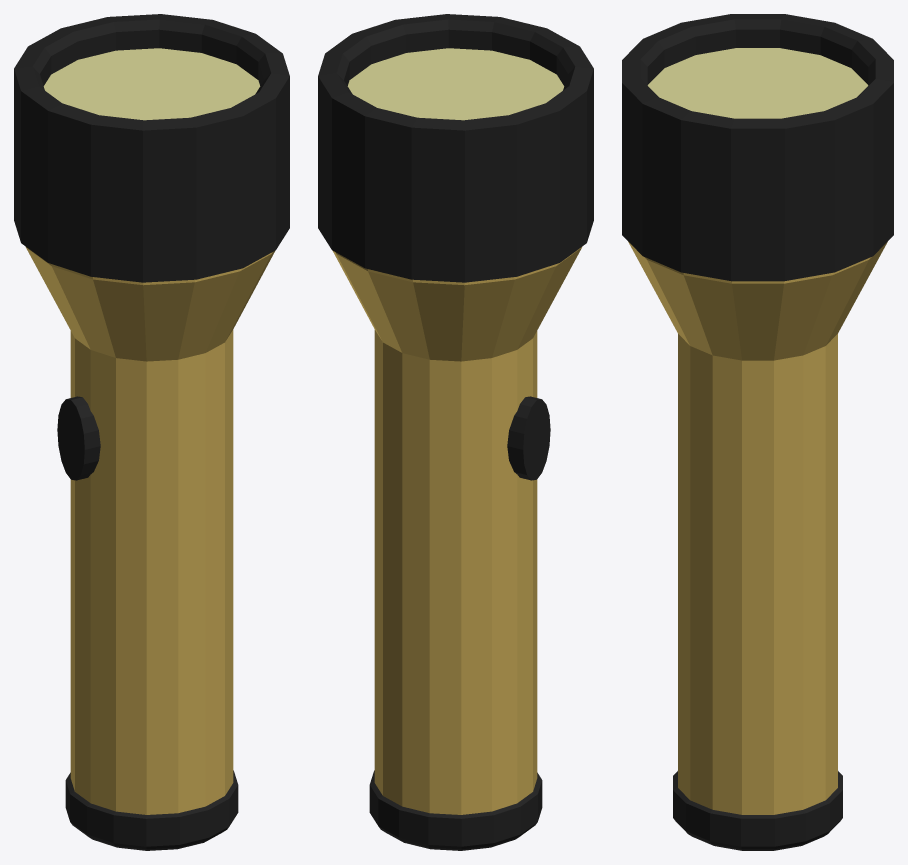
The model's file is Flashlight.fbx.
3 renders of one model, left to right at view 1: azimuth 30°, elevation 25°; view 2: azimuth 150°, elevation 25°; view 3: azimuth 270°, elevation 25°, orthographic.
Parts seen in each view (by area): view 1: Cylinder; view 2: Cylinder; view 3: Cylinder.
Part boxes in pixels (box(x1,y1,x2,y2)): Cylinder: box(14, 14, 289, 850); Cylinder: box(318, 14, 593, 850); Cylinder: box(622, 14, 893, 850).
Size of the model in its own units: 333 by 1025 by 333.
